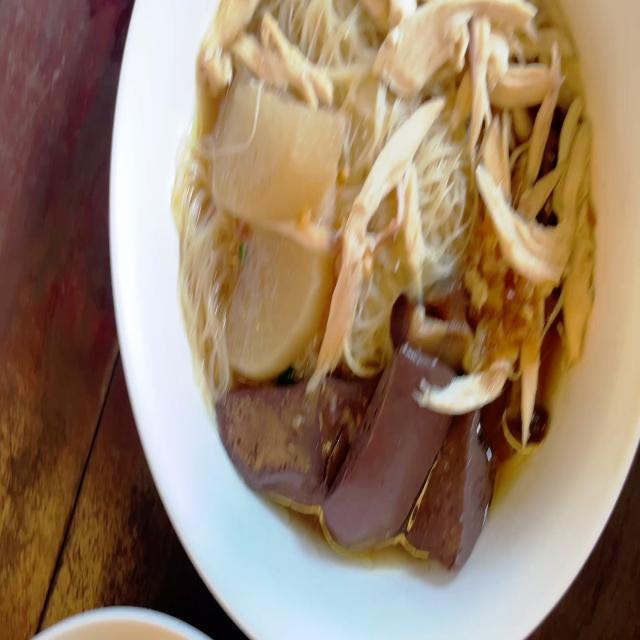boiled_chicken_blood_jelly: (324, 360, 461, 532), (214, 373, 346, 502), (437, 416, 490, 566)
chicken_shredded: (390, 0, 590, 383), (202, 0, 258, 90)
daikon_radish: (218, 78, 344, 211), (226, 225, 331, 372)
noodle: (164, 0, 608, 579)
